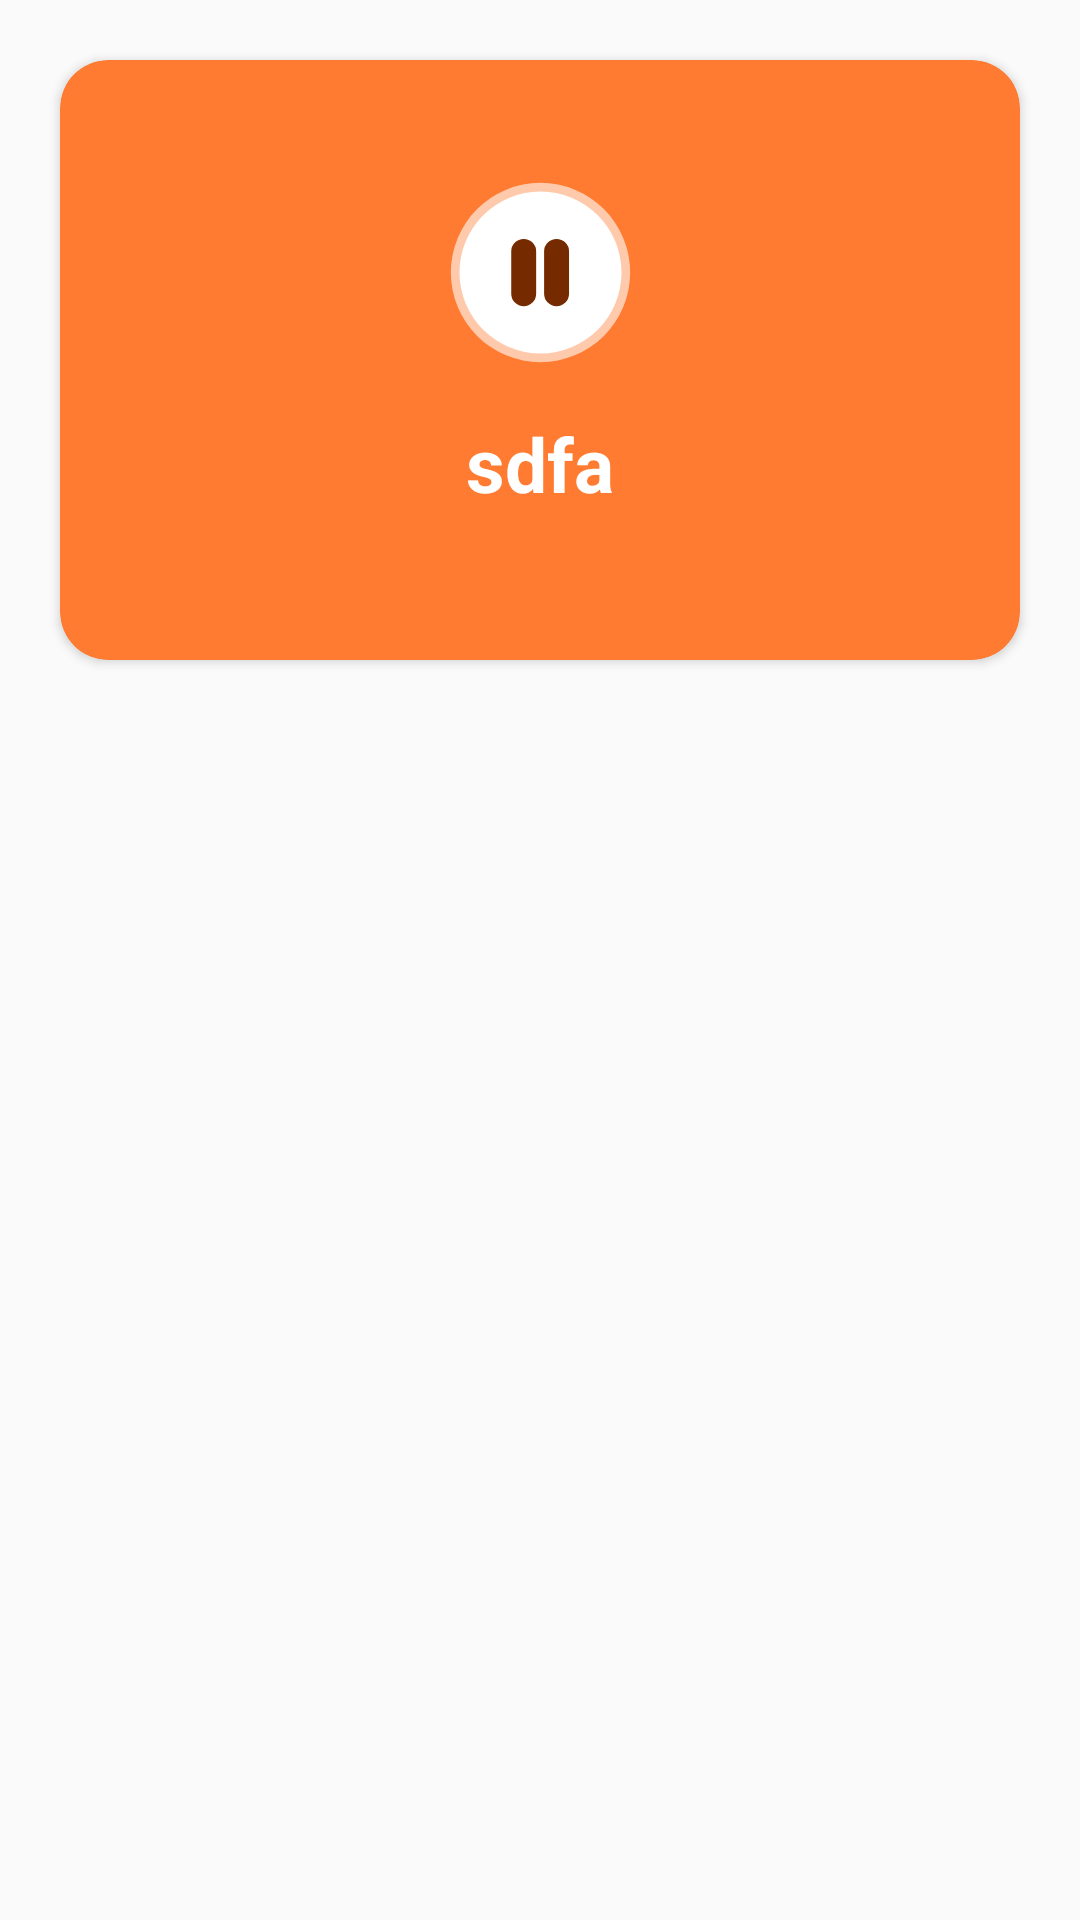

Where to tap for icons on this 1080px x 1920px app screen, as (x,y):
pause: (540,272)
